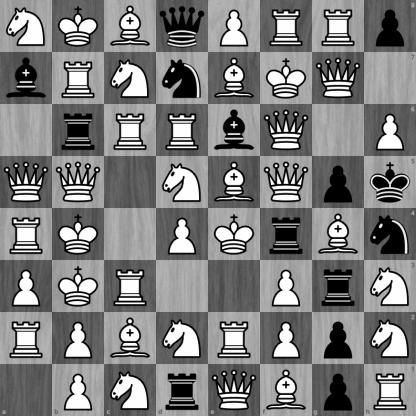B: (260, 364, 312, 416), (105, 1, 156, 52), (105, 313, 156, 364), (209, 53, 260, 104), (209, 157, 260, 208), (313, 209, 364, 260)
K: (53, 1, 104, 52), (53, 209, 104, 260), (53, 261, 104, 312), (209, 209, 260, 260), (261, 53, 312, 104)
N: (104, 364, 156, 416), (364, 260, 416, 312), (364, 312, 416, 364), (1, 1, 52, 52), (105, 53, 156, 104), (157, 157, 208, 208), (157, 313, 208, 364)
P: (52, 364, 104, 416), (364, 104, 416, 156), (1, 261, 52, 312), (53, 313, 104, 364), (157, 209, 208, 260), (209, 1, 260, 52), (261, 261, 312, 312), (261, 313, 312, 364)
Q: (209, 364, 260, 416), (1, 157, 52, 208), (53, 157, 104, 208), (261, 105, 312, 156), (261, 157, 312, 208), (313, 53, 364, 104)
R: (364, 364, 416, 416), (1, 209, 52, 260), (1, 313, 52, 364), (53, 53, 104, 104), (105, 105, 156, 156), (105, 261, 156, 312), (157, 105, 208, 156), (209, 313, 260, 364), (261, 1, 312, 52), (313, 1, 364, 52)
b: (1, 53, 52, 104), (209, 105, 260, 156)
board: (0, 0, 415, 415)
k: (364, 156, 416, 209)
n: (364, 209, 416, 260), (157, 53, 208, 104)
p: (312, 364, 364, 416), (364, 0, 416, 52), (313, 157, 364, 208), (313, 313, 364, 364)
q: (157, 1, 208, 52)
r: (156, 364, 209, 416), (53, 105, 104, 156), (261, 209, 312, 260), (313, 261, 364, 312)
